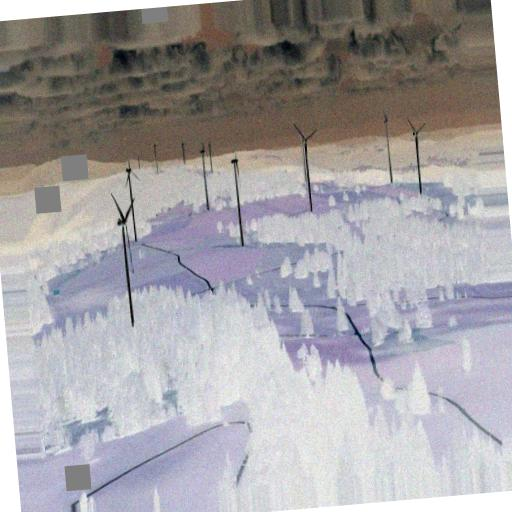wind turbine: (107, 191, 138, 333), (292, 121, 319, 221), (406, 118, 426, 197)
